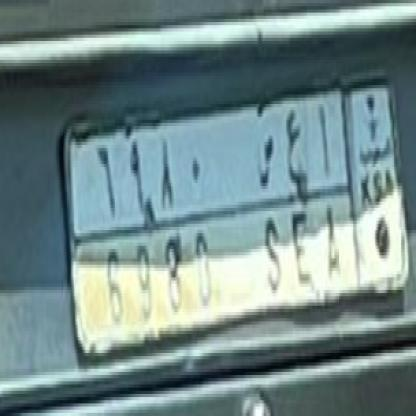english: (52, 189, 372, 336)
